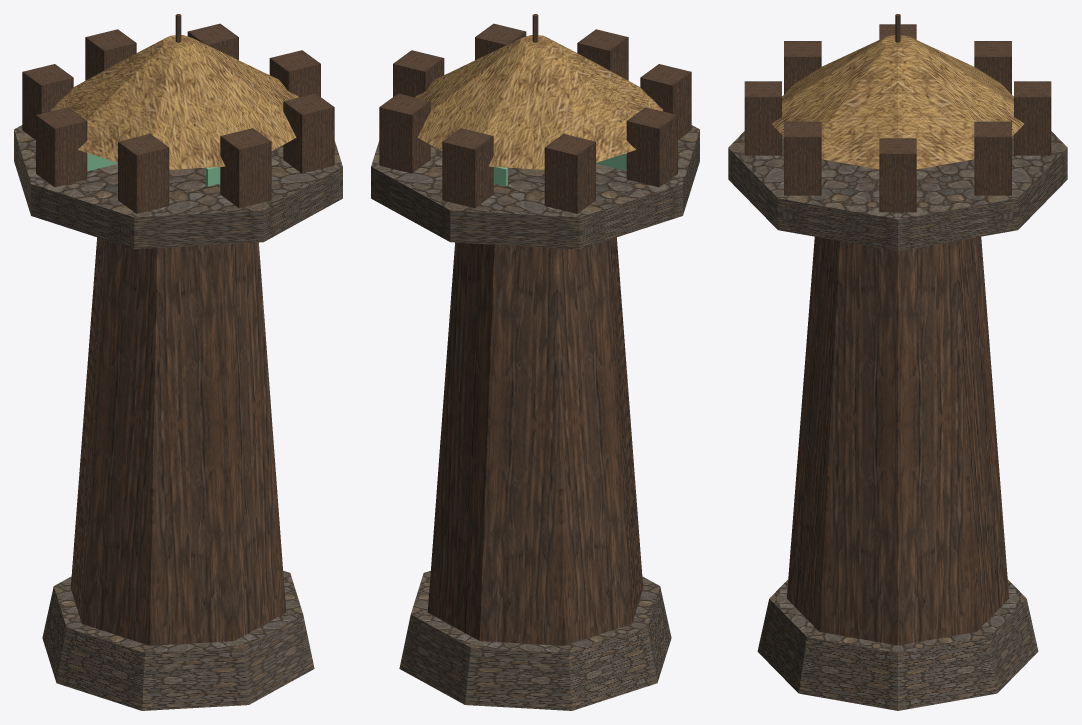
Rendered from edificio-tower-e0-CRj9rb2r.glb.
3 views of the same model, side by side, from view 1: azimuth 30°, elevation 25°; view 2: azimuth 150°, elevation 25°; view 3: azimuth 270°, elevation 25° (orthographic).
Visible parts, largest first — view 1: edificio-tower-e0_envolvente, edificio-tower-e0_detalles, edificio-tower-e0_team_color; view 2: edificio-tower-e0_envolvente, edificio-tower-e0_detalles, edificio-tower-e0_team_color; view 3: edificio-tower-e0_envolvente, edificio-tower-e0_detalles.
Boxes of the visible parts, x1,y1,x2,y2 form: edificio-tower-e0_envolvente: [51, 35, 298, 645]; edificio-tower-e0_detalles: [14, 14, 342, 710]; edificio-tower-e0_team_color: [87, 153, 220, 186]; edificio-tower-e0_envolvente: [415, 35, 662, 645]; edificio-tower-e0_detalles: [371, 14, 699, 710]; edificio-tower-e0_team_color: [493, 153, 626, 186]; edificio-tower-e0_envolvente: [771, 35, 1024, 645]; edificio-tower-e0_detalles: [728, 14, 1067, 710].
Bounding box in the file's own units: 29 × 60 × 29.
Materials: 3 (2 with a texture image).
